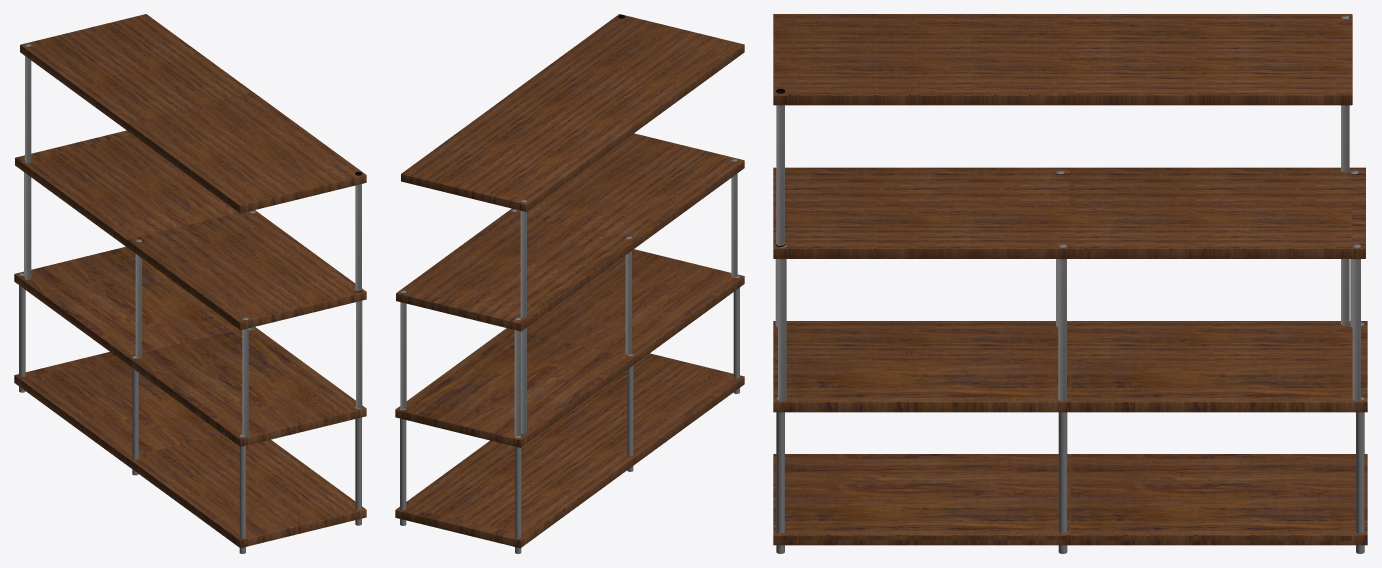
The picture shows the model from 3 angles, left to right: view 1: azimuth 30°, elevation 25°; view 2: azimuth 150°, elevation 25°; view 3: azimuth 270°, elevation 25°; orthographic projection. The views are drawn at different scales.
Parts seen in each view (by area): view 1: 06-tabla, 05-tabla, 04-tabla-inf, 01-tabla-sup, 01-tabla-sup.001, 03-tabla.001, 03-tabla, 01-tabla-inf.001, 02-tabla.001, 01-tabla-inf, 04-tabla-sup, 01-caño (+6 smaller); view 2: 06-tabla, 04-tabla-inf, 05-tabla, 02-tabla.001, 01-tabla-sup.001, 04-tabla-sup, 01-tabla-sup, 03-tabla.001, 03-tabla, 01-tabla-inf, 01-tabla-inf.001, 02-caños.003 (+7 smaller); view 3: 06-tabla, 05-tabla, 01-tabla-inf.001, 01-tabla-inf, 04-tabla-sup, 01-tabla-sup, 01-tabla-sup.001, 02-tabla.001, 03-tabla.001, 03-tabla, 04-tabla-inf, 01-caño (+5 smaller).
Part boxes in pixels (x1,y1,x2,y2): 06-tabla: (20, 14, 361, 212); 05-tabla: (20, 134, 365, 329); 04-tabla-inf: (20, 356, 365, 545); 01-tabla-sup: (127, 327, 366, 446); 01-tabla-sup.001: (14, 246, 238, 363); 03-tabla.001: (127, 210, 366, 330); 03-tabla: (127, 92, 366, 213); 01-tabla-inf.001: (14, 352, 222, 464); 02-tabla.001: (15, 130, 238, 247); 01-tabla-inf: (127, 436, 366, 548); 04-tabla-sup: (20, 251, 365, 445); 01-caño: (132, 328, 361, 553); 06-tabla: (401, 14, 744, 211); 04-tabla-inf: (406, 353, 744, 542); 05-tabla: (402, 134, 744, 326); 02-tabla.001: (396, 211, 632, 331); 01-tabla-sup.001: (395, 328, 632, 447); 04-tabla-sup: (450, 249, 744, 442); 01-tabla-sup: (527, 249, 744, 365); 03-tabla.001: (508, 133, 744, 249); 03-tabla: (508, 14, 744, 133); 01-tabla-inf: (613, 353, 744, 465); 01-tabla-inf.001: (395, 441, 632, 548); 02-caños.003: (400, 290, 520, 435); 06-tabla: (774, 14, 1352, 105); 05-tabla: (774, 192, 1351, 258); 01-tabla-inf.001: (1070, 454, 1367, 545); 01-tabla-inf: (773, 454, 1070, 545); 04-tabla-sup: (774, 321, 1351, 411); 01-tabla-sup: (773, 321, 1070, 412); 01-tabla-sup.001: (1070, 321, 1367, 412); 02-tabla.001: (1069, 167, 1365, 258); 03-tabla.001: (773, 167, 1069, 258); 03-tabla: (773, 14, 1070, 105); 04-tabla-inf: (774, 454, 1351, 544); 01-caño: (776, 397, 1067, 553).
Size of the model in its own units: 0.3406 by 0.9017 by 1.05.
Materials: 19 (7 with a texture image).
